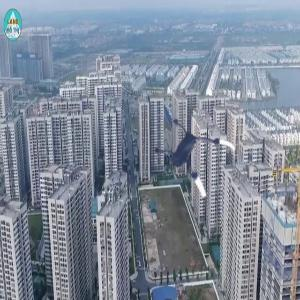drone: (144, 110, 239, 205)
